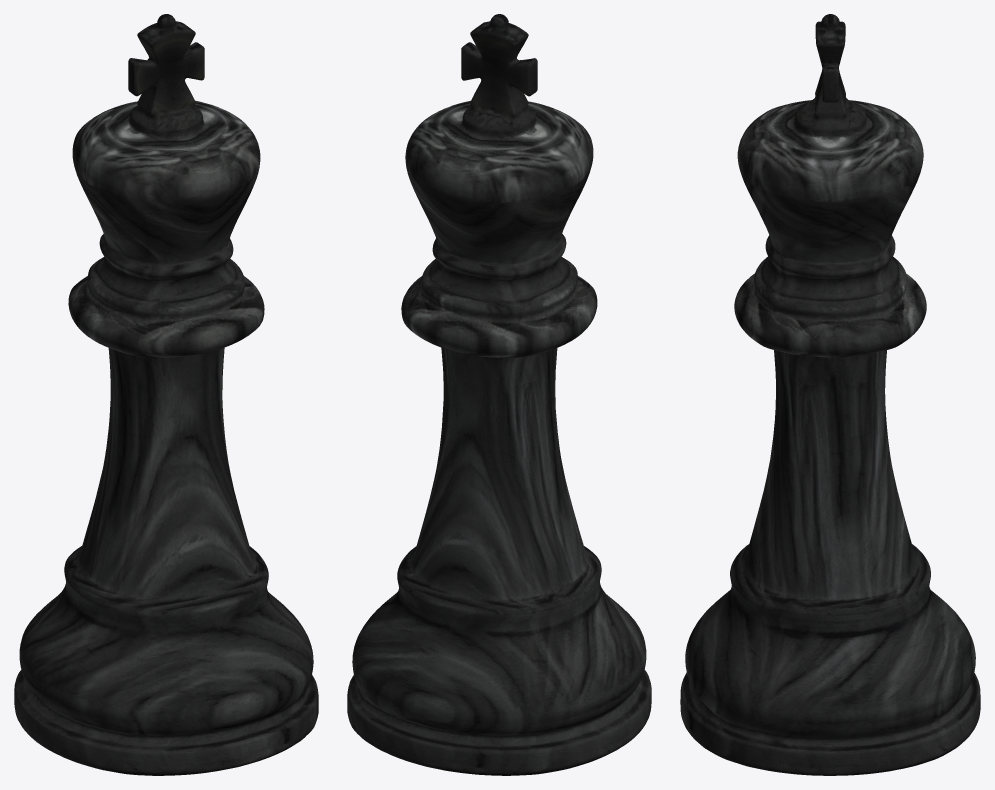
Rendered from aiking-king.glb.
The picture shows the model from 3 angles, left to right: view 1: azimuth 30°, elevation 25°; view 2: azimuth 150°, elevation 25°; view 3: azimuth 270°, elevation 25°; orthographic projection.
Parts seen in each view (by area): view 1: Mesh_0; view 2: Mesh_0; view 3: Mesh_0.
Part boxes in pixels (x1=…): Mesh_0: x1=14, y1=14, x2=318, y2=775; Mesh_0: x1=347, y1=14, x2=651, y2=775; Mesh_0: x1=680, y1=14, x2=980, y2=775.
Size of the model in its own units: 0.7334 by 1.9 by 0.7336.
1 material, 1 textured.
